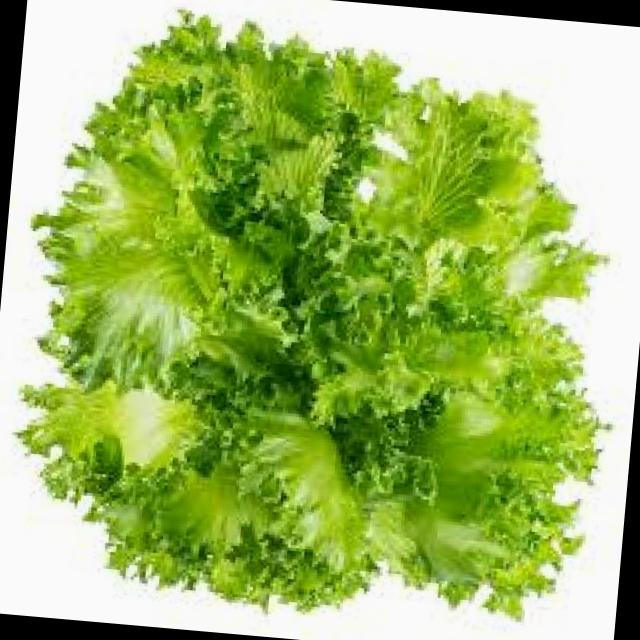Lettuce-Ready-to-Harvest: (22, 13, 596, 614)
